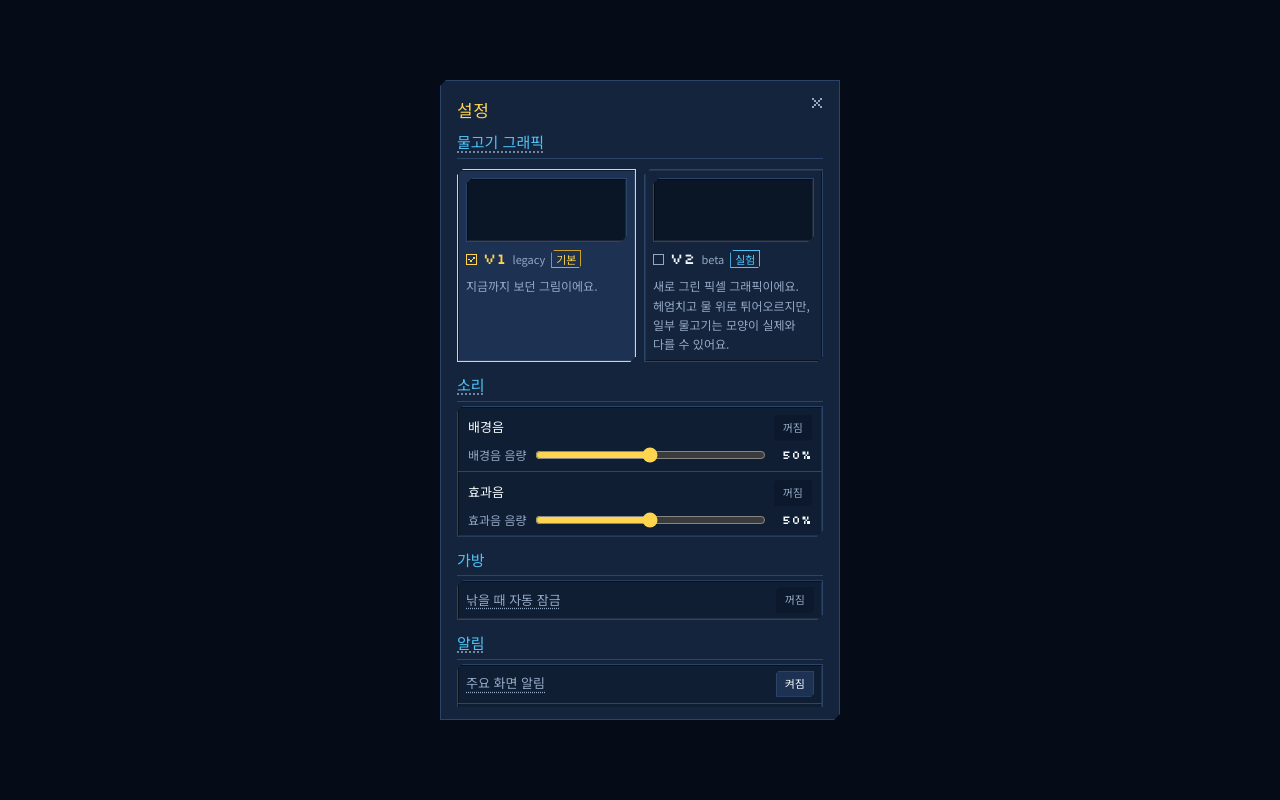
Scenario: SettingsModal — 가방 설정(낚을 때 자동 잠금) › in-flight 가드 — 응답을 기다리는 동안 토글을 비활성화하고 중복 요청을 막는다
Click the button with aria-label "낚을 때 자동 잠금" at (795, 600), box [776,587,814,613]
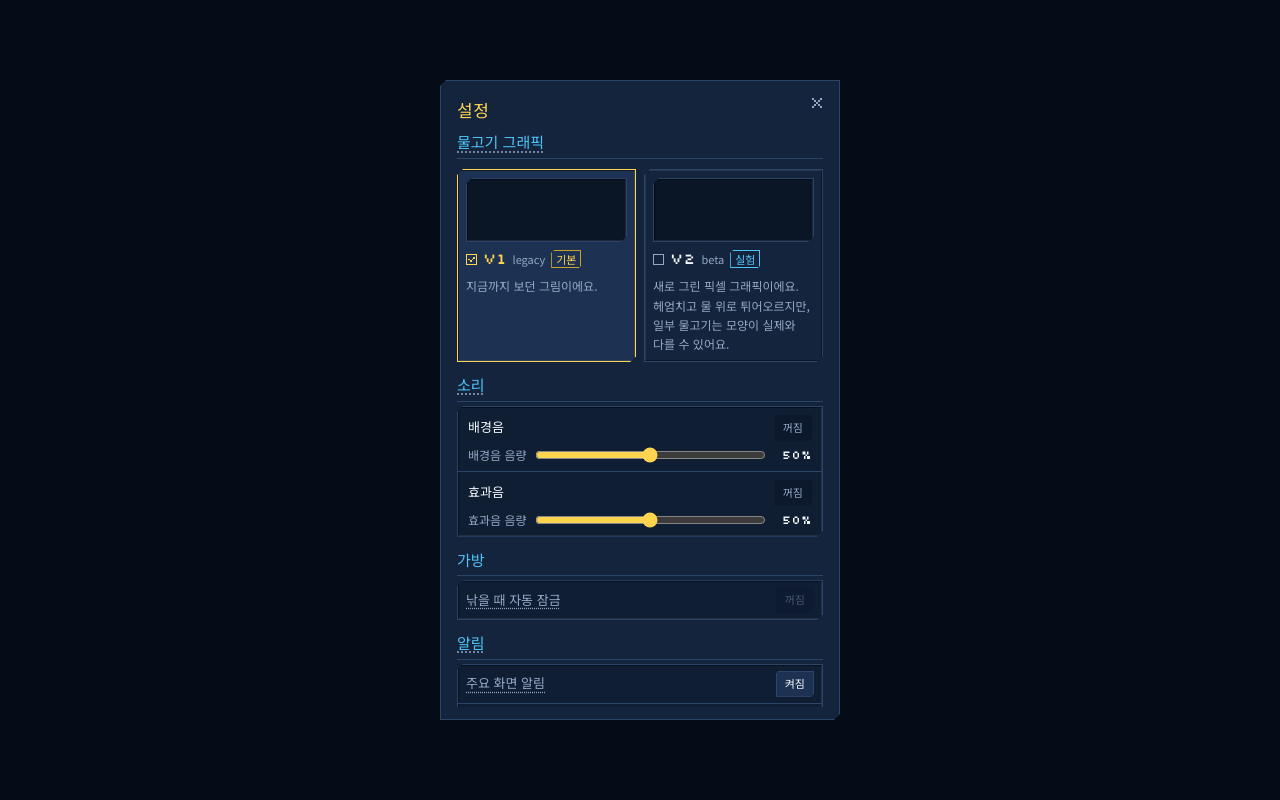
Result: the button with aria-label "낚을 때 자동 잠금" is disabled
// 대기 중 추가 클릭은 무시한다
Click the button with aria-label "낚을 때 자동 잠금" at (795, 600), box [776,587,814,613]
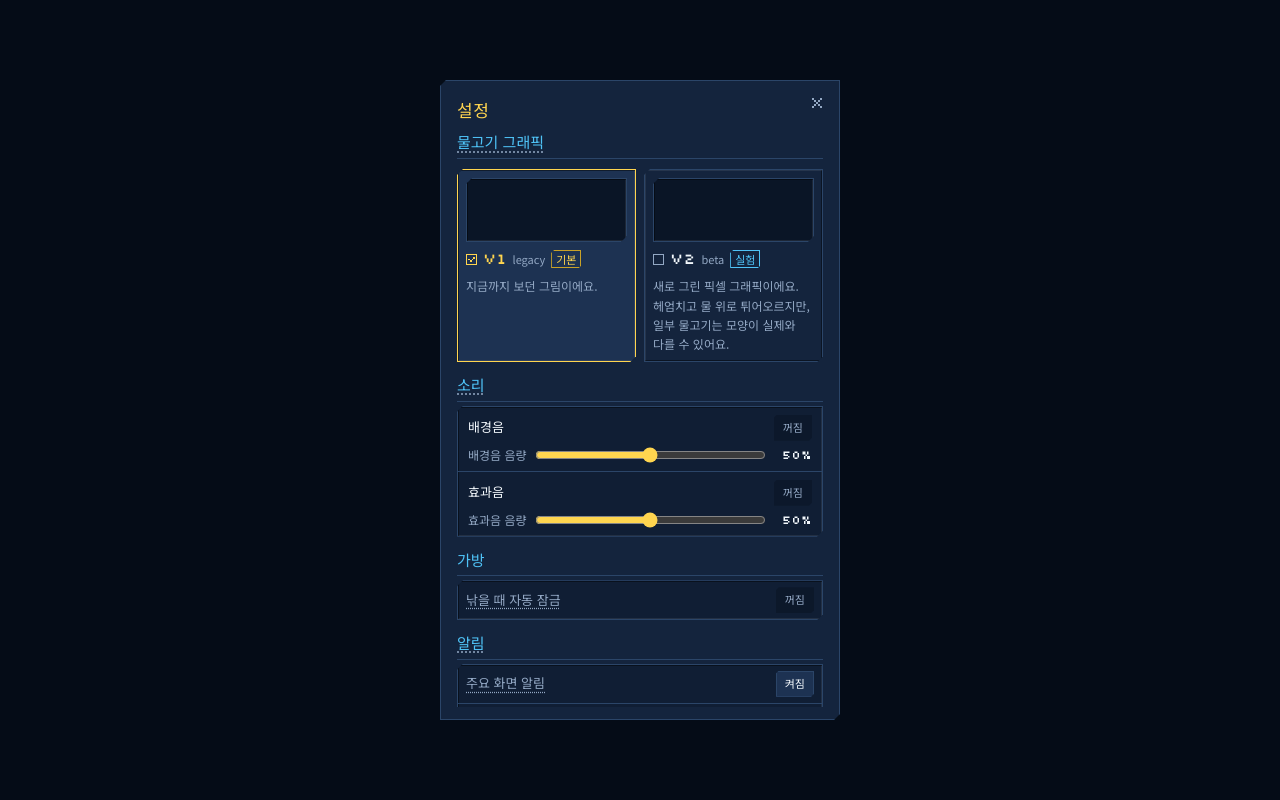
Result: the button with aria-label "낚을 때 자동 잠금" is enabled at [776,587,814,613]
